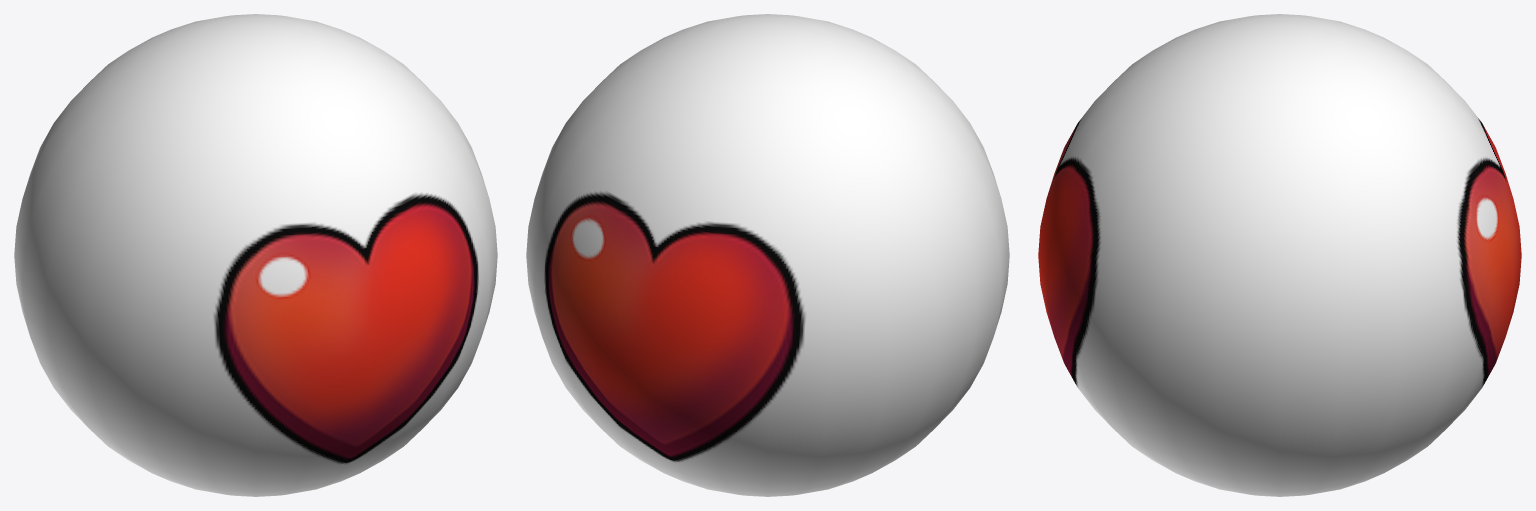
The model's file is Bonus_heart.fbx.
3 renders of one model, left to right at view 1: azimuth 30°, elevation 25°; view 2: azimuth 150°, elevation 25°; view 3: azimuth 270°, elevation 25°, orthographic.
Visible parts, largest first — view 1: Bonus_heart; view 2: Bonus_heart; view 3: Bonus_heart.
Boxes of the visible parts, box(x1,y1,x2,y2) form: Bonus_heart: box(14, 14, 497, 496); Bonus_heart: box(526, 14, 1009, 496); Bonus_heart: box(1038, 14, 1521, 496).
Bounding box in the file's own units: 29.99 × 29.99 × 29.99.
